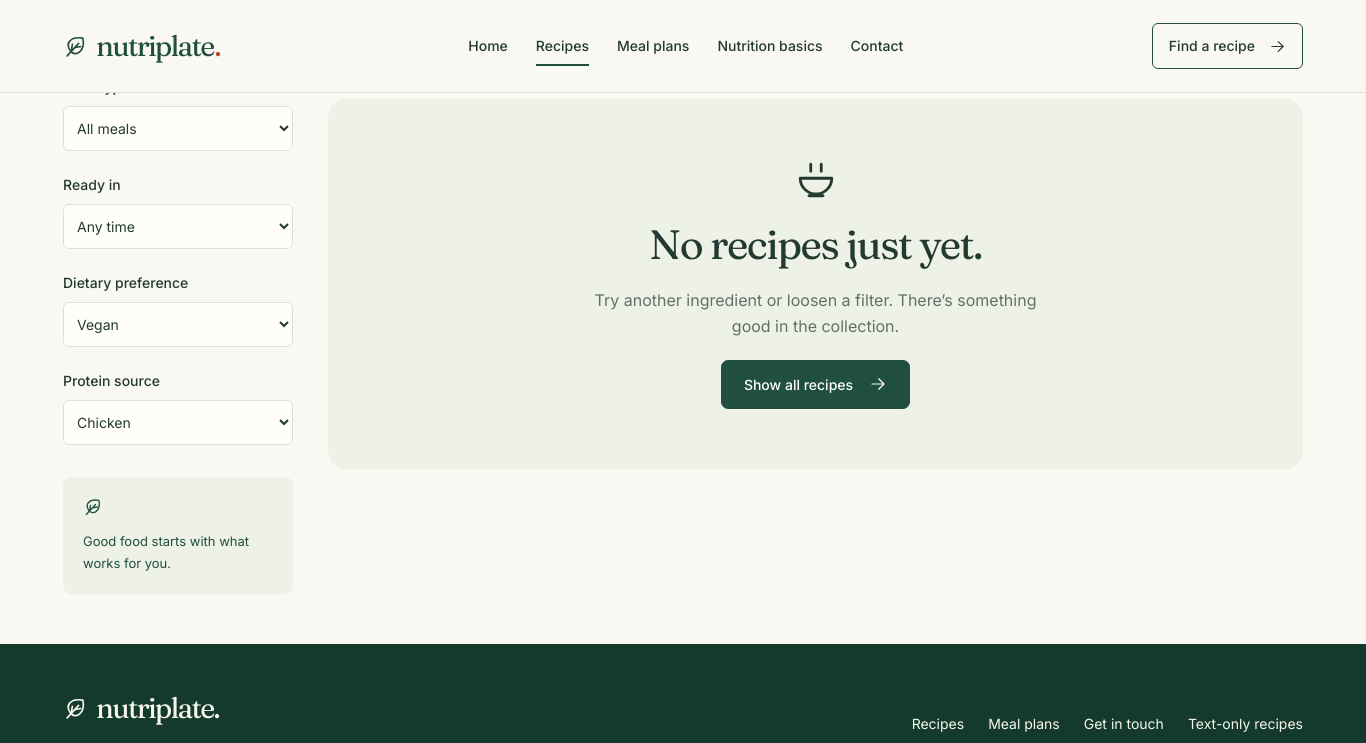
Recipe discovery › shows an empty state and restores the full collection
The width and height of the screenshot is (1366, 743).
(page scrolled)
Expected: the heading "No recipes just yet." is shown, [649,221,982,267]
What coordinates should you click on to do the following:
click the button "Show all recipes"
I would click on:
 (816, 384)
Its box is [721,360,910,409].
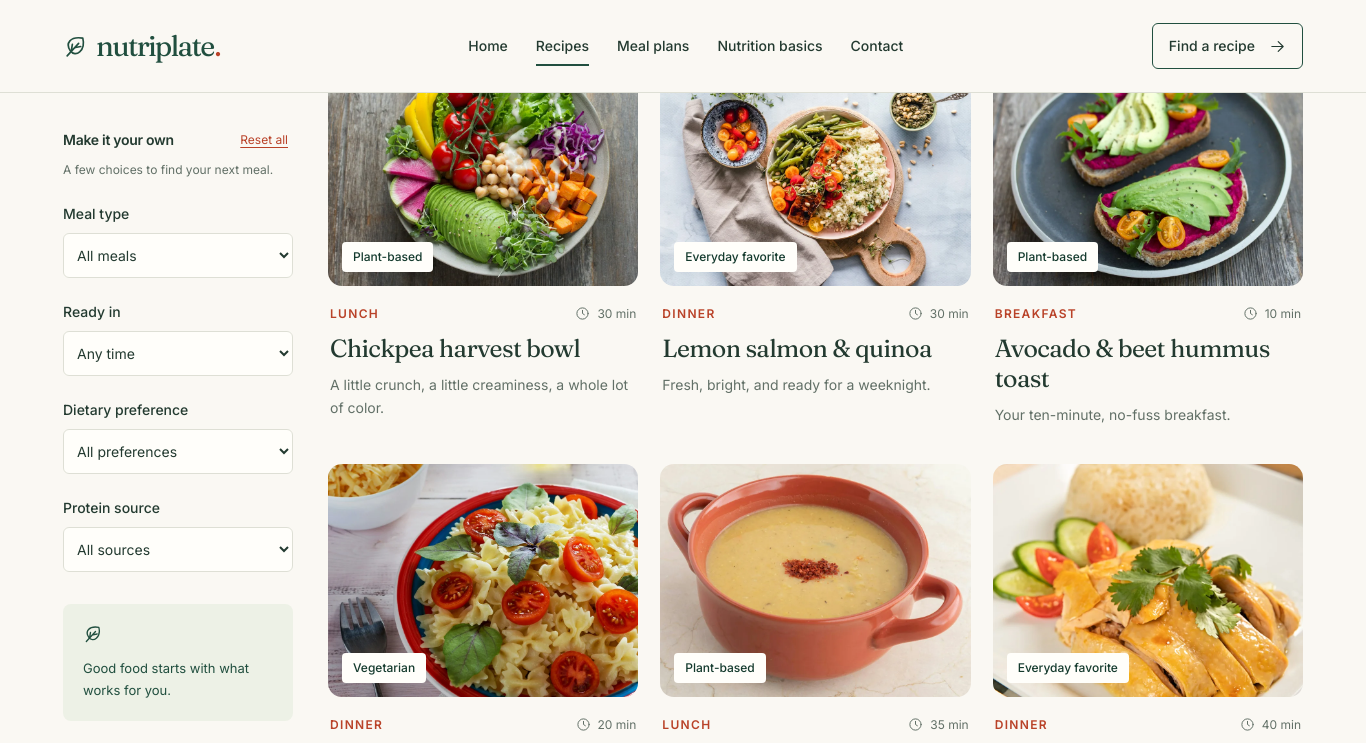
Expected: the dropdown labelled "Dietary preference" shows "All preferences", [63,429,293,474]
